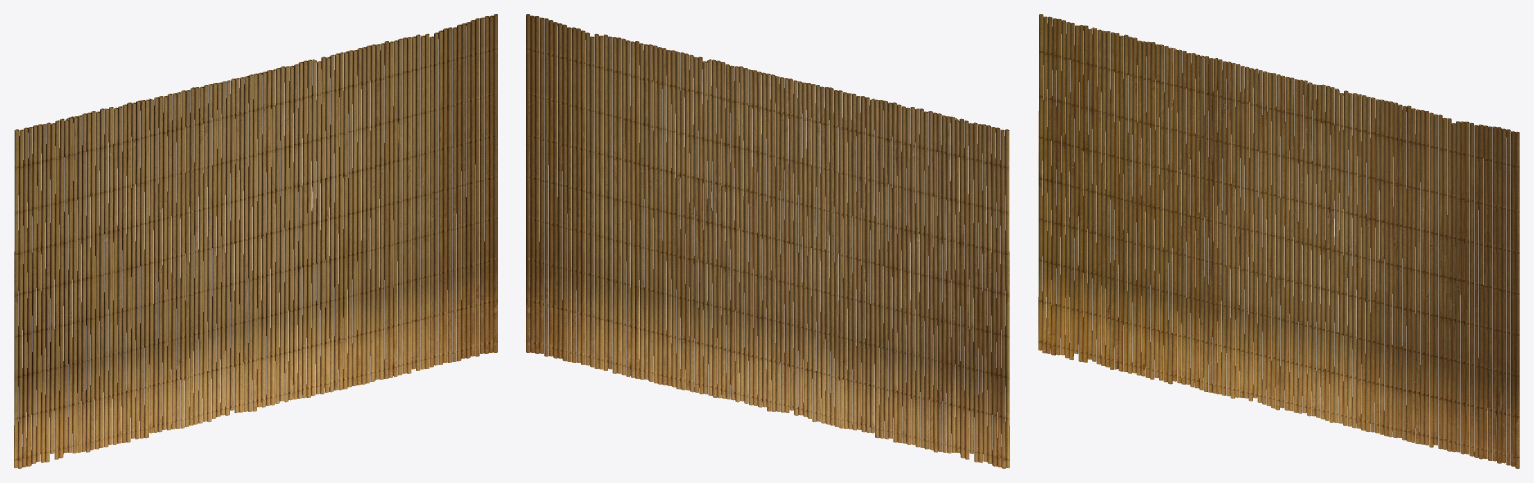
File: bamboo_cover.glb
The picture shows the model from 3 angles, left to right: view 1: azimuth 30°, elevation 25°; view 2: azimuth 150°, elevation 25°; view 3: azimuth 330°, elevation 25°; orthographic projection.
Visible parts, largest first — view 1: bamboo-texture-1621806; view 2: bamboo-texture-1621806; view 3: bamboo-texture-1621806.
Boxes of the visible parts, box(x1,y1,x2,y2) form: bamboo-texture-1621806: box(14, 14, 497, 468); bamboo-texture-1621806: box(526, 14, 1009, 468); bamboo-texture-1621806: box(1038, 14, 1519, 468).
Bounding box in the file's own units: 149 × 100 × 0.9558.
1 material, 1 textured.
